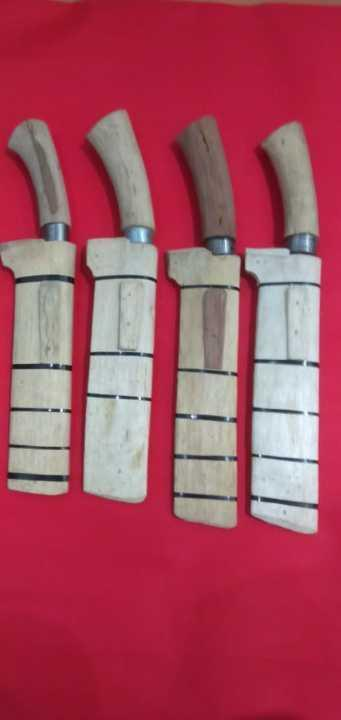facao: (166, 108, 242, 518), (0, 120, 79, 493), (82, 103, 152, 510), (261, 109, 320, 534)
